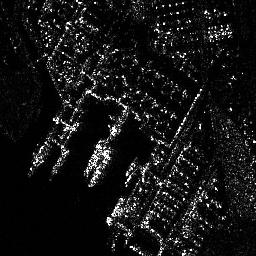ship: (87, 150, 112, 188), (105, 195, 124, 227)
